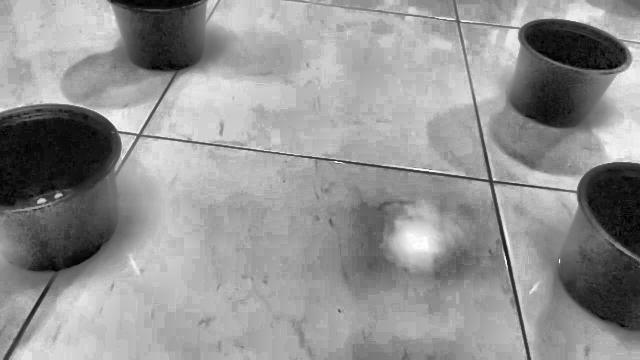pot: (0, 105, 121, 272), (558, 162, 640, 330), (509, 19, 632, 127), (107, 0, 207, 71)
